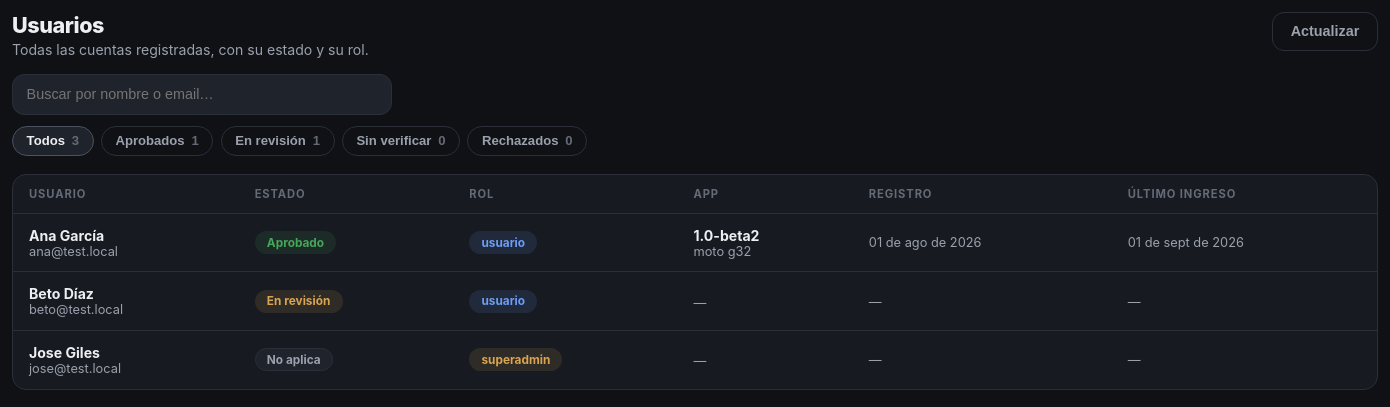
Test case: UsersPage › el filtro de estado muestra solo ese estado
Expected: the text "Ana García" is shown, 29,227 -> 104,244
Click the tab "En revisión 1". click: (278, 141)
box: 221,126 -> 335,156
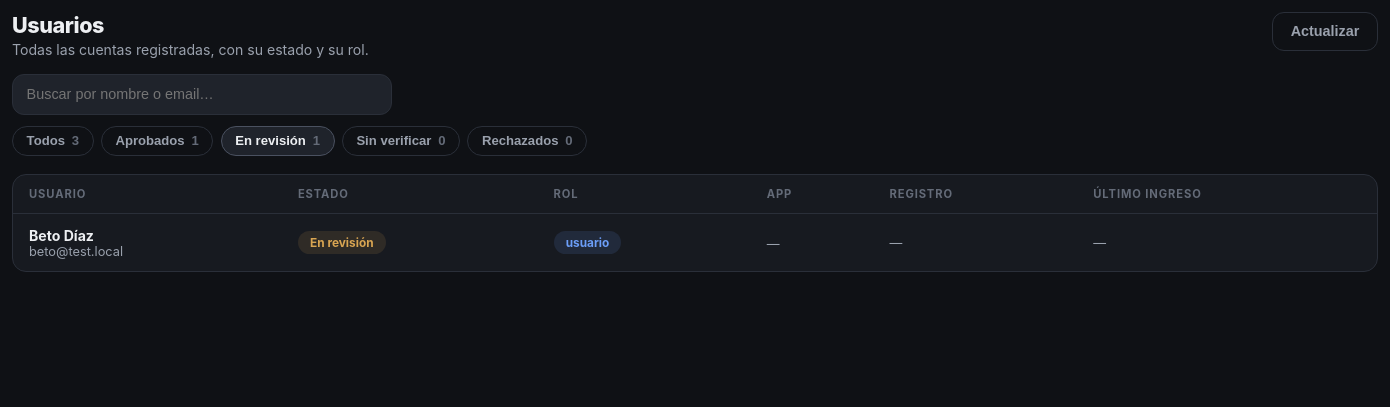
Expected: the text "Beto Díaz" is shown, 29,227 -> 94,244
Expected: the text "Ana García" is gone
